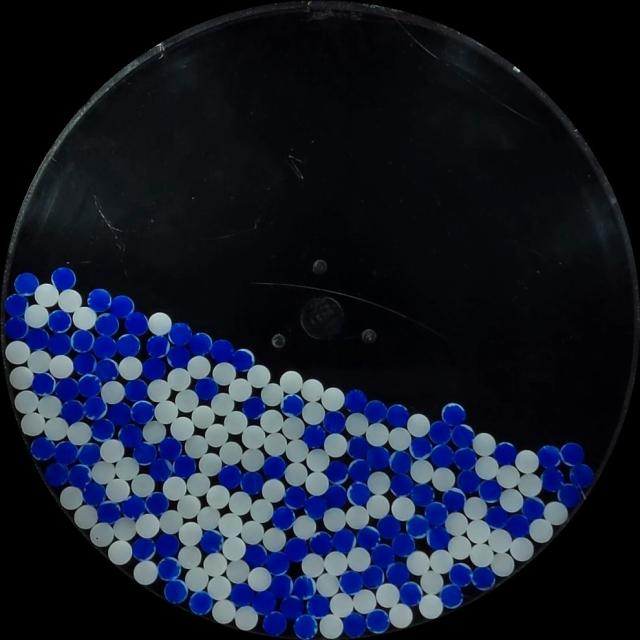pmmma-azul: (262, 610, 288, 637), (456, 469, 482, 495), (188, 590, 214, 616), (504, 513, 530, 539), (24, 326, 50, 352), (118, 423, 144, 448), (149, 456, 174, 482), (30, 436, 56, 461), (265, 550, 290, 576), (115, 333, 141, 358), (54, 377, 80, 402), (218, 464, 243, 490), (82, 396, 108, 421), (76, 373, 102, 398), (568, 463, 594, 488), (82, 481, 107, 506), (243, 543, 268, 568), (424, 501, 449, 526), (60, 399, 85, 424), (283, 536, 308, 561), (323, 484, 348, 509), (430, 443, 455, 468), (44, 462, 69, 487), (452, 446, 477, 471), (92, 335, 117, 360), (199, 529, 224, 554), (441, 402, 466, 427), (448, 562, 472, 588), (377, 514, 401, 540), (14, 272, 40, 296), (347, 458, 371, 484), (109, 294, 135, 318), (484, 505, 510, 529), (252, 589, 276, 614), (54, 440, 78, 465), (426, 525, 450, 550), (154, 533, 179, 557), (366, 609, 390, 634), (146, 334, 170, 359), (121, 495, 146, 519), (356, 525, 380, 550), (4, 316, 29, 340), (557, 483, 581, 508), (130, 400, 155, 424), (391, 532, 415, 557), (342, 612, 366, 637), (389, 472, 414, 496), (90, 417, 115, 441), (164, 579, 188, 604), (493, 441, 517, 466), (451, 423, 475, 448), (168, 322, 193, 346), (47, 332, 72, 356), (521, 496, 545, 521), (376, 515, 400, 540), (52, 267, 76, 292), (124, 312, 149, 336), (559, 442, 584, 466), (293, 574, 316, 600), (145, 492, 169, 516), (339, 570, 363, 594), (386, 562, 410, 586), (124, 378, 148, 402), (306, 594, 330, 618), (108, 402, 132, 426), (132, 536, 156, 560), (68, 464, 92, 488), (48, 309, 72, 333), (262, 455, 286, 479), (194, 377, 218, 401), (158, 436, 182, 460), (325, 460, 349, 484), (210, 339, 234, 363), (410, 482, 434, 506), (32, 372, 56, 396), (471, 566, 495, 590), (71, 328, 95, 352), (95, 313, 119, 337), (157, 556, 181, 580), (371, 543, 395, 567), (242, 396, 266, 420), (188, 332, 212, 356), (442, 488, 466, 512), (366, 446, 390, 470), (294, 614, 318, 638), (399, 581, 423, 605), (406, 514, 430, 538), (230, 582, 254, 606), (344, 389, 368, 413), (97, 500, 121, 524), (72, 352, 96, 376), (536, 445, 560, 469), (309, 532, 333, 556), (540, 468, 564, 492), (332, 528, 355, 553), (428, 420, 451, 445), (271, 506, 296, 529), (94, 359, 119, 382), (269, 574, 292, 598), (173, 454, 196, 478), (87, 288, 111, 311), (304, 495, 327, 519), (142, 357, 166, 380), (4, 294, 28, 317), (389, 450, 412, 474), (302, 424, 325, 448), (231, 348, 254, 372), (240, 471, 263, 495), (77, 442, 101, 465), (283, 485, 306, 509), (323, 410, 346, 434), (478, 479, 502, 502), (280, 594, 303, 618), (364, 399, 387, 423), (386, 404, 409, 427), (440, 584, 463, 607), (348, 481, 370, 505), (362, 564, 384, 588), (411, 436, 433, 460), (281, 394, 304, 416), (168, 344, 190, 366), (346, 436, 368, 458), (133, 443, 155, 464)
